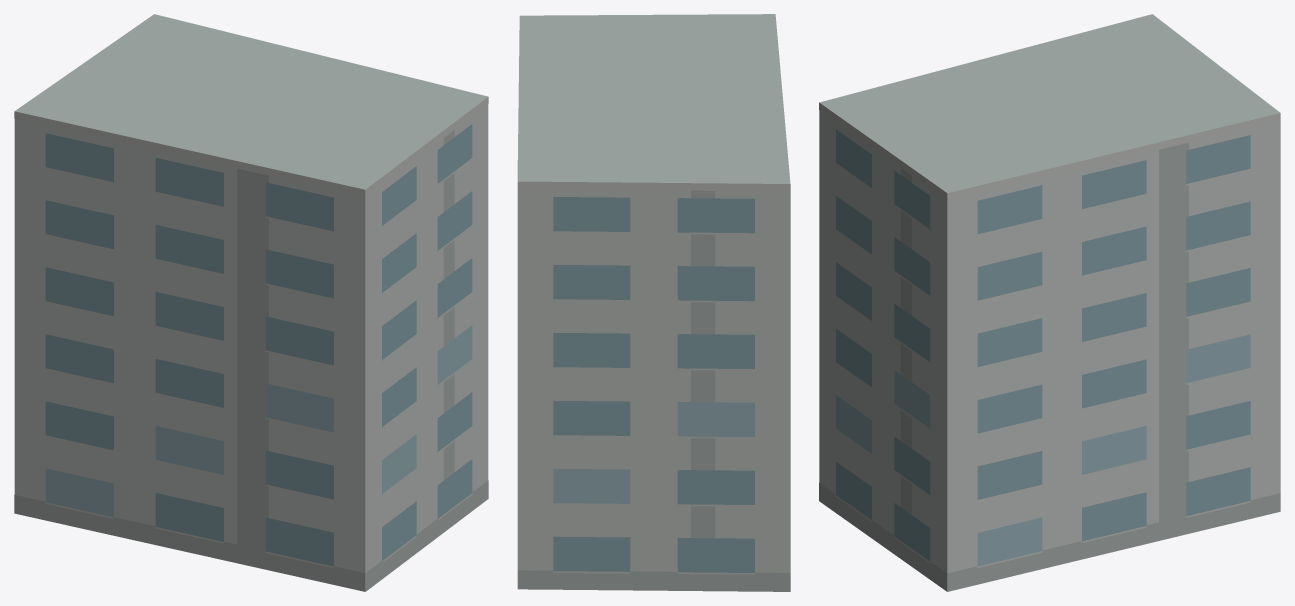
Rendered from survey-upis-32806727.glb.
3 renders of one model, left to right at view 1: azimuth 30°, elevation 25°; view 2: azimuth 150°, elevation 25°; view 3: azimuth 270°, elevation 25°, orthographic. The views are drawn at different scales.
Parts seen in each view (by area): view 1: survey-upis-32806727.tmp; view 2: survey-upis-32806727.tmp; view 3: survey-upis-32806727.tmp.
Part boxes in pixels (left/top/right/bottom): survey-upis-32806727.tmp: left=14, top=14, right=488, bottom=591; survey-upis-32806727.tmp: left=517, top=14, right=790, bottom=591; survey-upis-32806727.tmp: left=819, top=14, right=1280, bottom=591.
Size of the model in its own units: 12.64 by 13.1 by 13.75.
